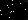person: (6, 5, 13, 18)
